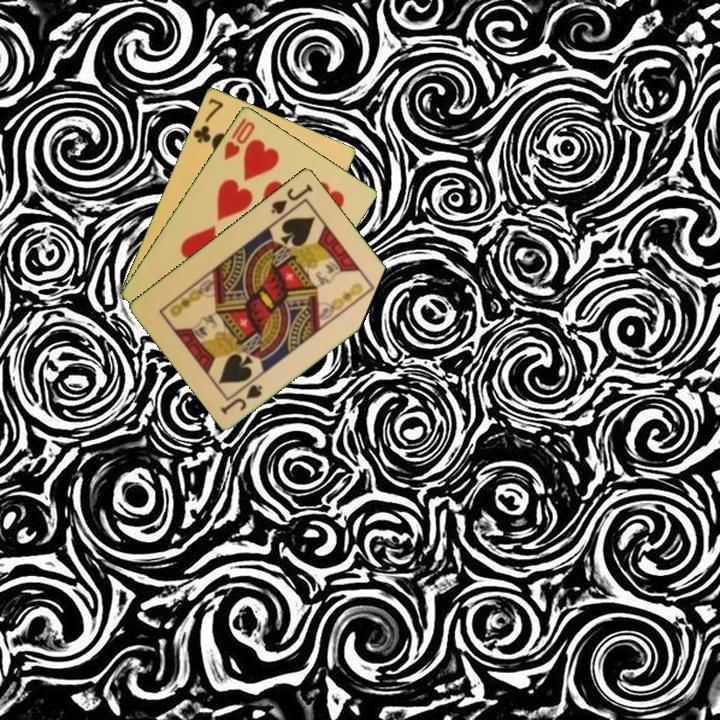10h: (220, 114, 258, 163)
7c: (190, 94, 226, 146)
Js: (267, 180, 316, 217), (217, 380, 265, 417)
